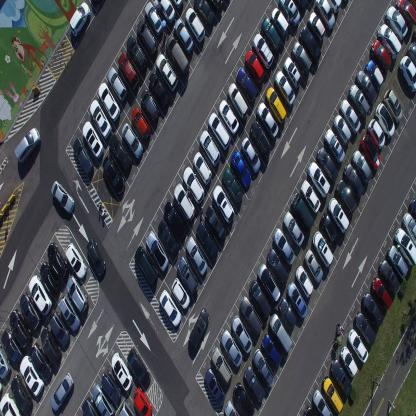car: (165, 35, 190, 79), (19, 354, 44, 396), (14, 126, 41, 164), (135, 244, 159, 286), (97, 80, 121, 122), (257, 262, 282, 302), (163, 199, 186, 242), (28, 274, 52, 315), (269, 313, 293, 354), (239, 295, 263, 336), (50, 372, 74, 413), (146, 230, 169, 272), (158, 288, 182, 328), (126, 347, 150, 387), (108, 132, 132, 172), (10, 373, 33, 414), (57, 293, 81, 332), (207, 111, 231, 150), (272, 227, 296, 266), (377, 23, 402, 60), (50, 178, 75, 215), (188, 308, 210, 350), (173, 183, 196, 223), (147, 70, 170, 110), (155, 53, 178, 93), (102, 155, 125, 195), (9, 309, 32, 349), (110, 351, 133, 391), (307, 160, 331, 198), (196, 221, 218, 262), (177, 254, 199, 295), (186, 236, 208, 277), (117, 50, 139, 91), (330, 357, 352, 398), (394, 227, 416, 268), (90, 98, 112, 139), (210, 347, 233, 386), (182, 165, 205, 204), (291, 192, 314, 231), (384, 5, 408, 42), (231, 314, 253, 354), (126, 33, 148, 73), (249, 278, 271, 318), (212, 183, 234, 223), (249, 119, 271, 159), (286, 280, 308, 320), (204, 367, 226, 407), (322, 375, 344, 415), (220, 329, 243, 367), (316, 146, 339, 184), (311, 230, 334, 268), (29, 342, 52, 380), (227, 81, 248, 122), (72, 136, 93, 177), (230, 150, 252, 189), (66, 274, 88, 313), (299, 25, 321, 64), (267, 247, 289, 286), (47, 241, 69, 280), (0, 327, 22, 366), (198, 129, 221, 166), (204, 204, 226, 242), (136, 18, 158, 56), (64, 241, 86, 279), (264, 86, 286, 124), (252, 32, 274, 70), (282, 210, 304, 248), (324, 127, 346, 165), (362, 290, 384, 328), (379, 258, 401, 296), (19, 292, 41, 330), (158, 218, 179, 257), (253, 348, 274, 387), (235, 66, 257, 103), (256, 101, 278, 138), (348, 83, 370, 120), (371, 275, 393, 312), (386, 244, 408, 281), (86, 237, 106, 277), (343, 162, 364, 200), (336, 178, 357, 216), (328, 196, 349, 234), (82, 120, 103, 158), (48, 310, 70, 346), (121, 122, 143, 158), (274, 69, 296, 105), (339, 98, 361, 134), (354, 310, 376, 346), (106, 65, 128, 101), (244, 364, 264, 403), (218, 98, 239, 135), (222, 167, 243, 204), (40, 326, 61, 363), (100, 369, 122, 404), (240, 136, 260, 174), (261, 17, 281, 55), (375, 101, 395, 139), (360, 133, 380, 171), (130, 106, 151, 142), (300, 179, 321, 215), (370, 38, 391, 74), (233, 381, 255, 415), (383, 87, 403, 124), (348, 327, 368, 364), (186, 6, 206, 43), (92, 384, 115, 416), (351, 149, 372, 184), (174, 16, 193, 54), (245, 49, 265, 85), (320, 212, 340, 248), (170, 276, 191, 310), (356, 70, 377, 104), (70, 1, 90, 36), (261, 334, 282, 367), (144, 0, 163, 36), (40, 260, 59, 296), (192, 150, 212, 184), (292, 40, 312, 74), (294, 264, 314, 298), (304, 249, 323, 284), (140, 88, 159, 123), (400, 54, 416, 94), (278, 296, 297, 329), (339, 345, 358, 378), (332, 115, 352, 146), (283, 56, 301, 90), (316, 0, 336, 30), (278, 0, 300, 27), (307, 11, 325, 44), (193, 0, 215, 27), (365, 59, 383, 91), (312, 389, 334, 415), (270, 7, 289, 37), (368, 117, 385, 150), (396, 0, 416, 27), (401, 211, 416, 247), (0, 391, 21, 416), (134, 387, 152, 415), (155, 0, 176, 23), (0, 343, 12, 379), (82, 396, 100, 415), (326, 0, 342, 16), (224, 400, 240, 416), (118, 400, 135, 415), (207, 0, 224, 14), (408, 40, 416, 67), (293, 0, 308, 13), (408, 196, 415, 220), (304, 405, 316, 415), (171, 0, 184, 8)
